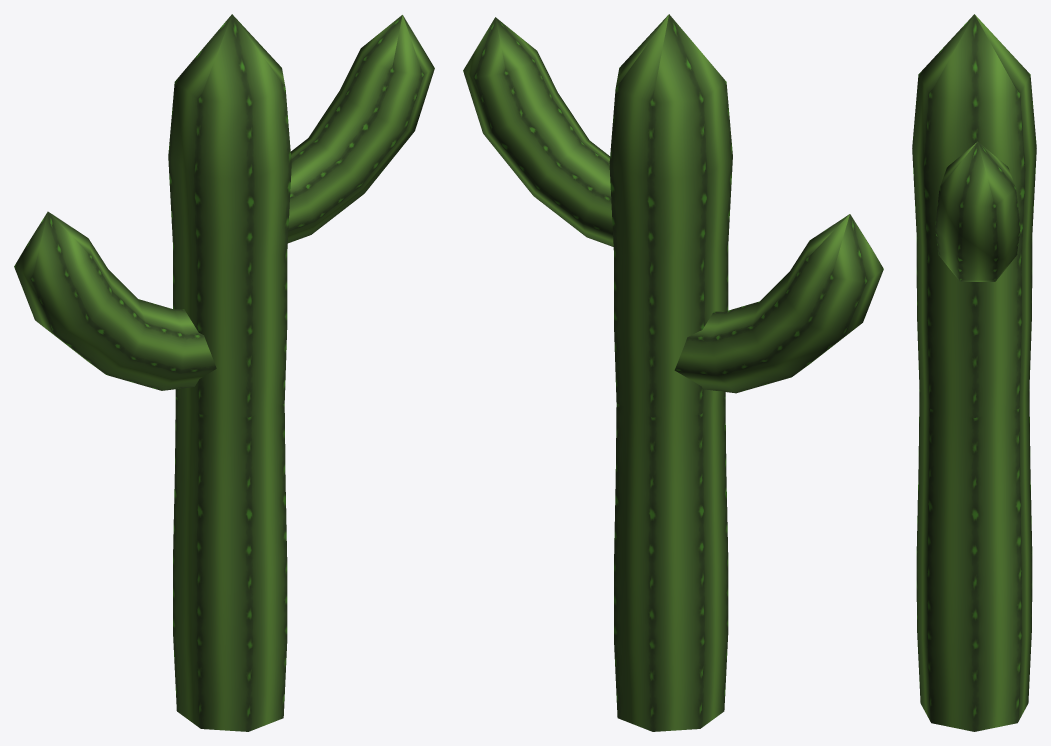
Rendered from Ctn_cactus_01_v03.FBX.
3 renders of one model, left to right at view 1: azimuth 30°, elevation 25°; view 2: azimuth 150°, elevation 25°; view 3: azimuth 270°, elevation 25°, orthographic.
Visible parts, largest first — view 1: Ctn_cactus_01_v03; view 2: Ctn_cactus_01_v03; view 3: Ctn_cactus_01_v03.
Part boxes in pixels (bbox=[...]): Ctn_cactus_01_v03: bbox=[14, 14, 434, 731]; Ctn_cactus_01_v03: bbox=[463, 14, 883, 731]; Ctn_cactus_01_v03: bbox=[912, 14, 1036, 731].
Size of the model in its own units: 77.37 by 127 by 20.74.
